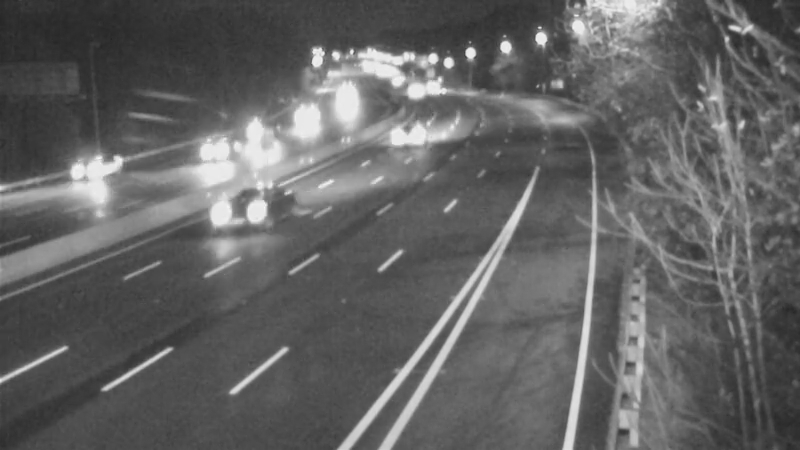vehicle: (213, 172, 293, 252), (42, 136, 122, 216), (174, 111, 254, 191), (387, 63, 437, 113), (396, 99, 446, 149), (238, 112, 288, 162), (288, 92, 338, 142), (319, 73, 369, 123)
